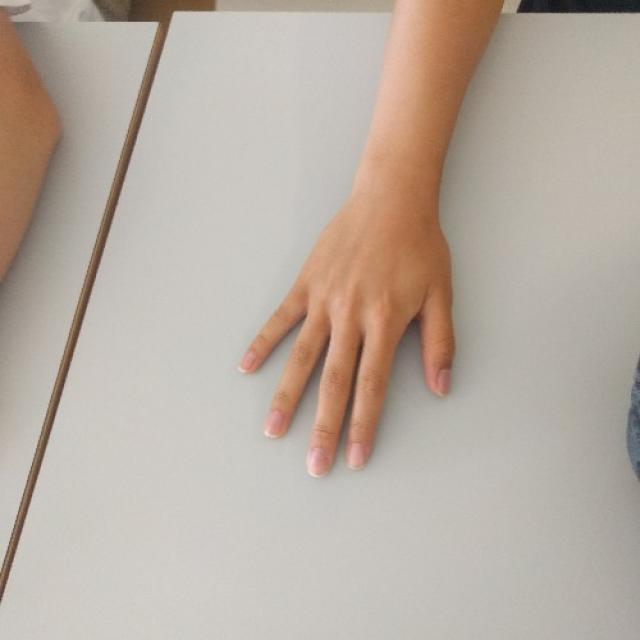paper: (240, 221, 458, 484)
